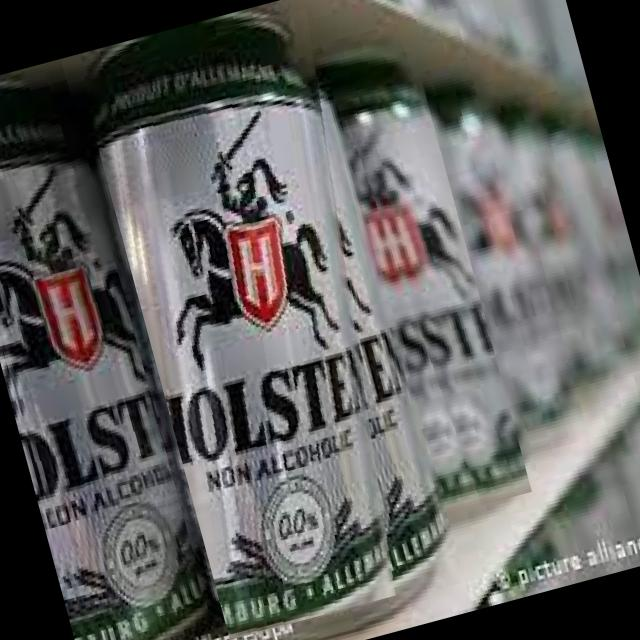Cans: (74, 0, 458, 639), (0, 58, 212, 640), (326, 39, 532, 514)
